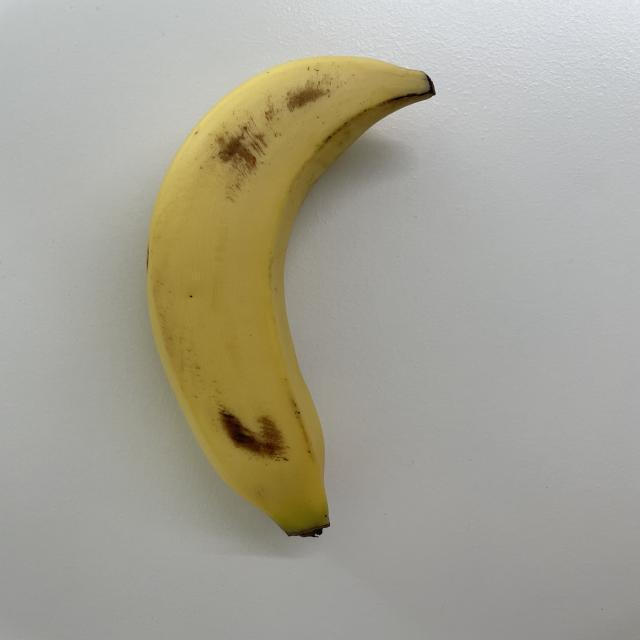Banana: (140, 52, 440, 542)
